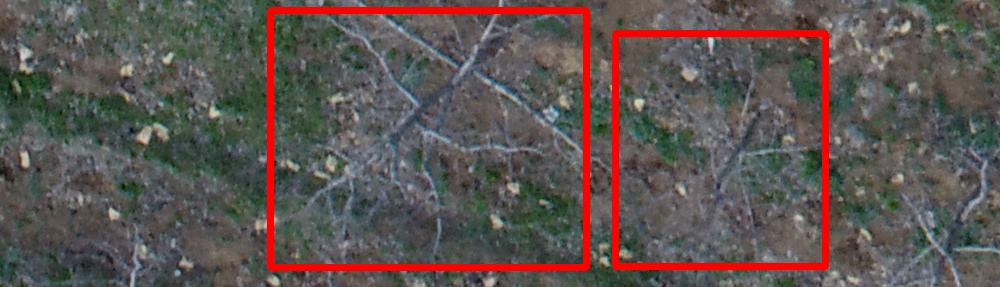apple: (270, 10, 586, 267), (615, 33, 825, 266)
